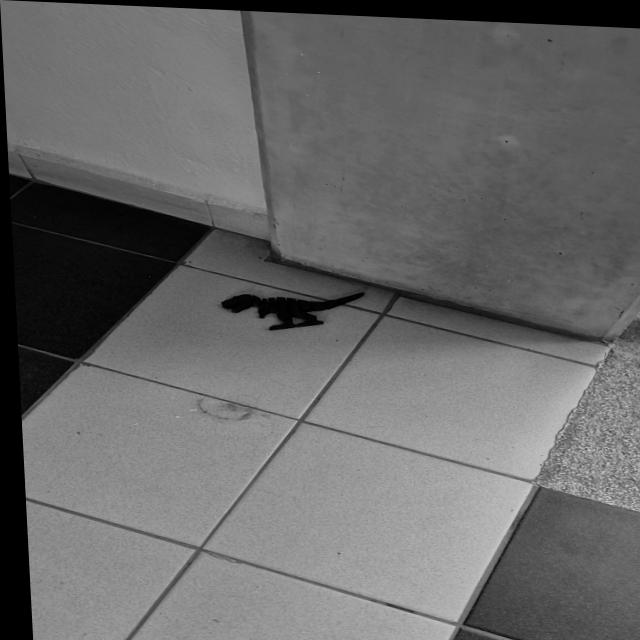dino: (219, 285, 368, 336)
